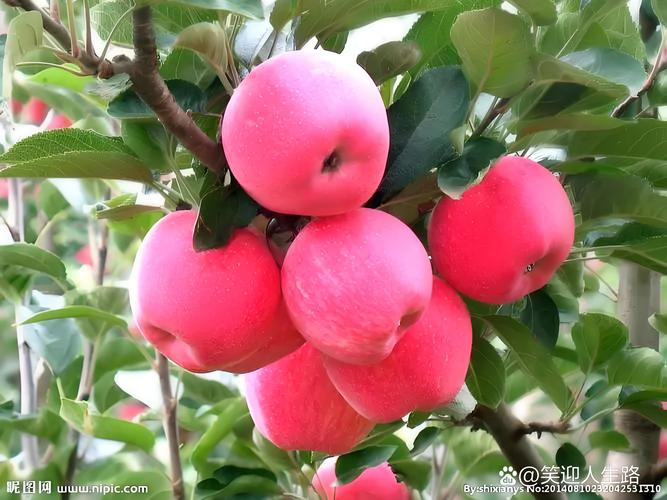ripe: (97, 205, 301, 374), (207, 47, 401, 210), (281, 204, 441, 366), (423, 149, 583, 307), (318, 278, 468, 427), (245, 327, 383, 449)
